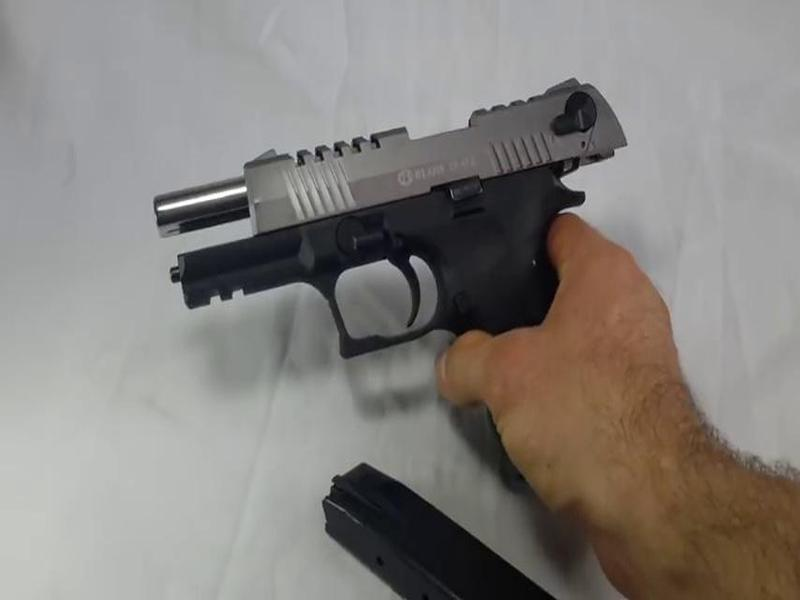Pistola: (136, 78, 655, 430)
